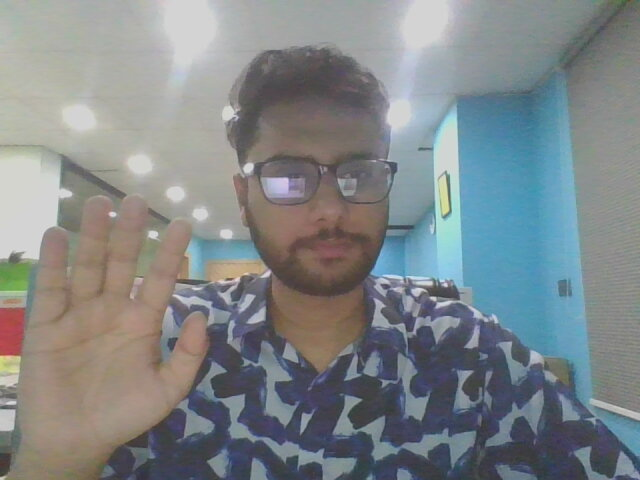hello: (10, 177, 230, 474)
